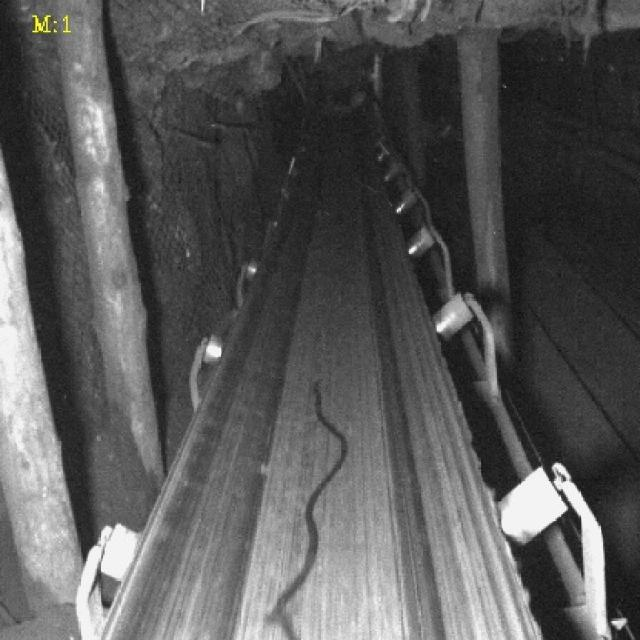bolt: (272, 369, 356, 640)
